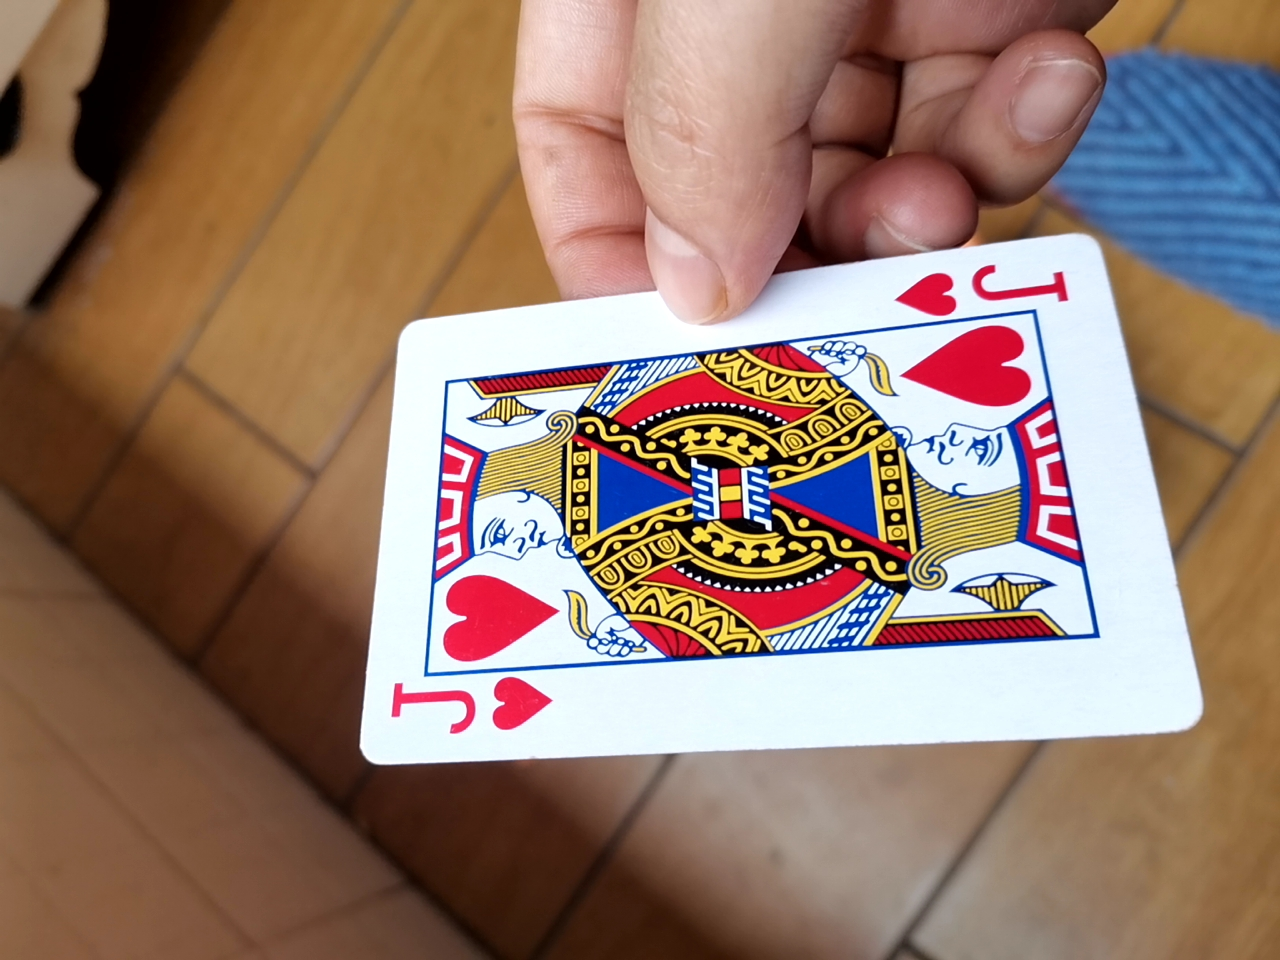hx j: (347, 231, 1193, 772)
